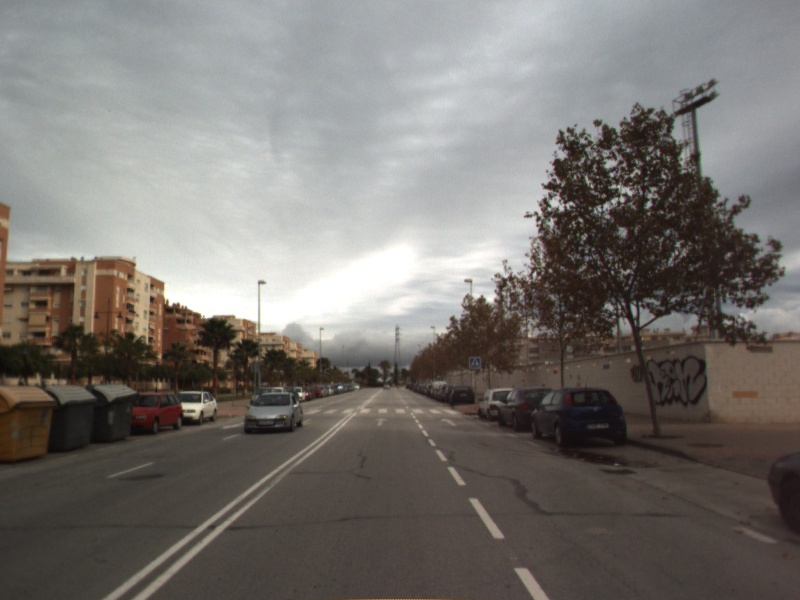STRAIGHT: (438, 416, 459, 428), (372, 416, 390, 428)
